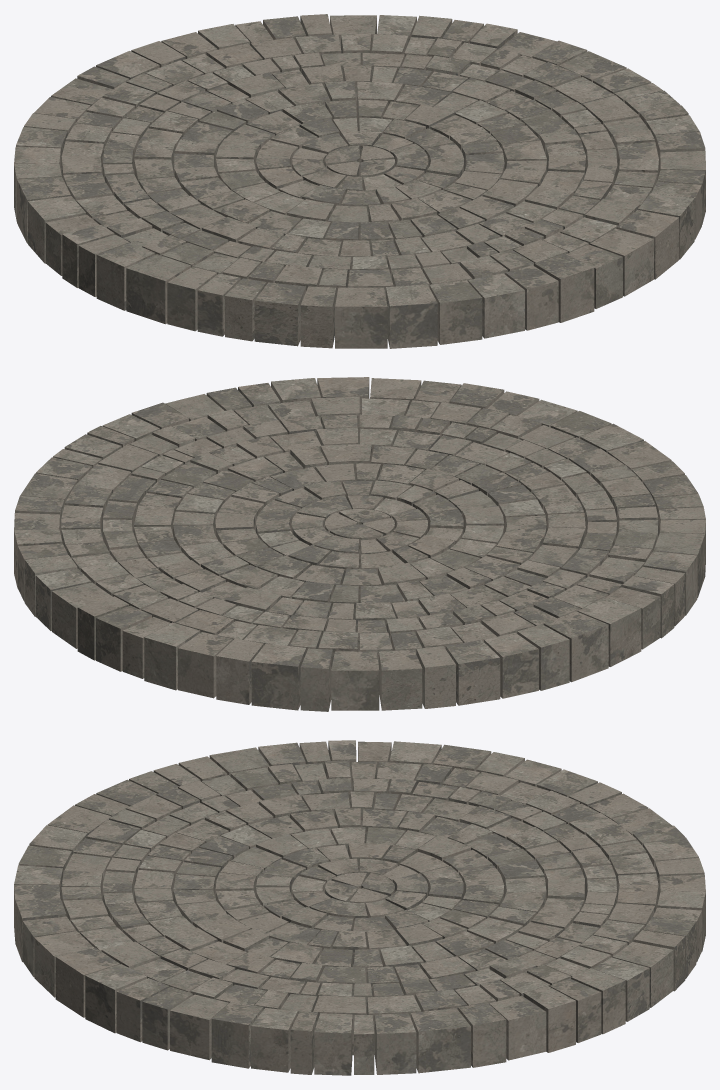
File: GreekGround.fbx
3 renders of one model, top to bottom at view 1: azimuth 30°, elevation 25°; view 2: azimuth 150°, elevation 25°; view 3: azimuth 270°, elevation 25°, orthographic.
Parts seen in each view (by area): view 1: Wall; view 2: Wall; view 3: Wall.
Boxes of the visible parts, x1,y1,x2,y2 form: Wall: (14, 14, 705, 348); Wall: (14, 377, 705, 711); Wall: (14, 740, 705, 1075).
Bounding box in the file's own units: 2991 × 210 × 2990.
Materials: 1 (1 with a texture image).
